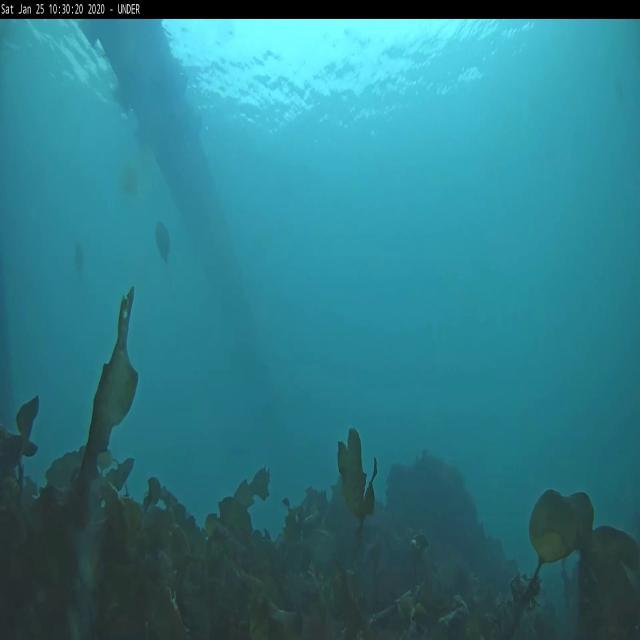fish: (70, 236, 86, 286), (152, 218, 170, 260)
